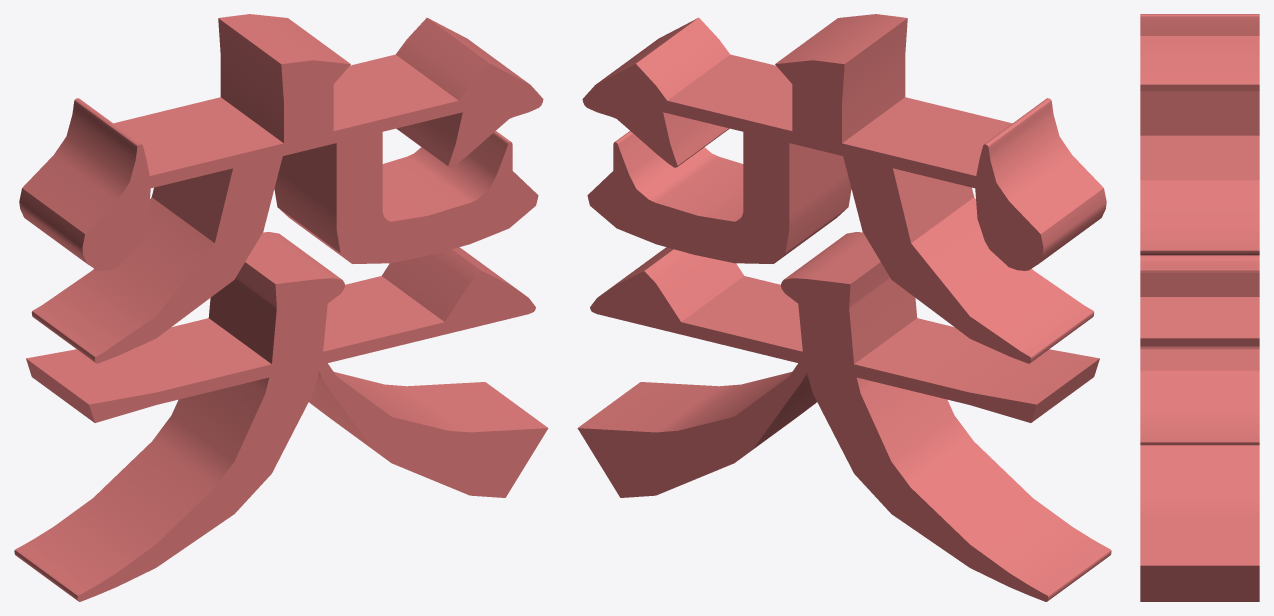
File: totsu.fbx
3 renders of one model, left to right at view 1: azimuth 30°, elevation 25°; view 2: azimuth 150°, elevation 25°; view 3: azimuth 270°, elevation 25°, orthographic. The views are drawn at different scales.
Visible parts, largest first — view 1: Trim_Char_x_1_1; view 2: Trim_Char_x_1_1; view 3: Trim_Char_x_1_1.
Boxes of the visible parts, x1=… form: Trim_Char_x_1_1: x1=14, y1=14, x2=548, y2=601; Trim_Char_x_1_1: x1=577, y1=14, x2=1111, y2=601; Trim_Char_x_1_1: x1=1140, y1=14, x2=1259, y2=601.
Bounding box in the file's own units: 2.29 × 2.27 × 0.5321.
